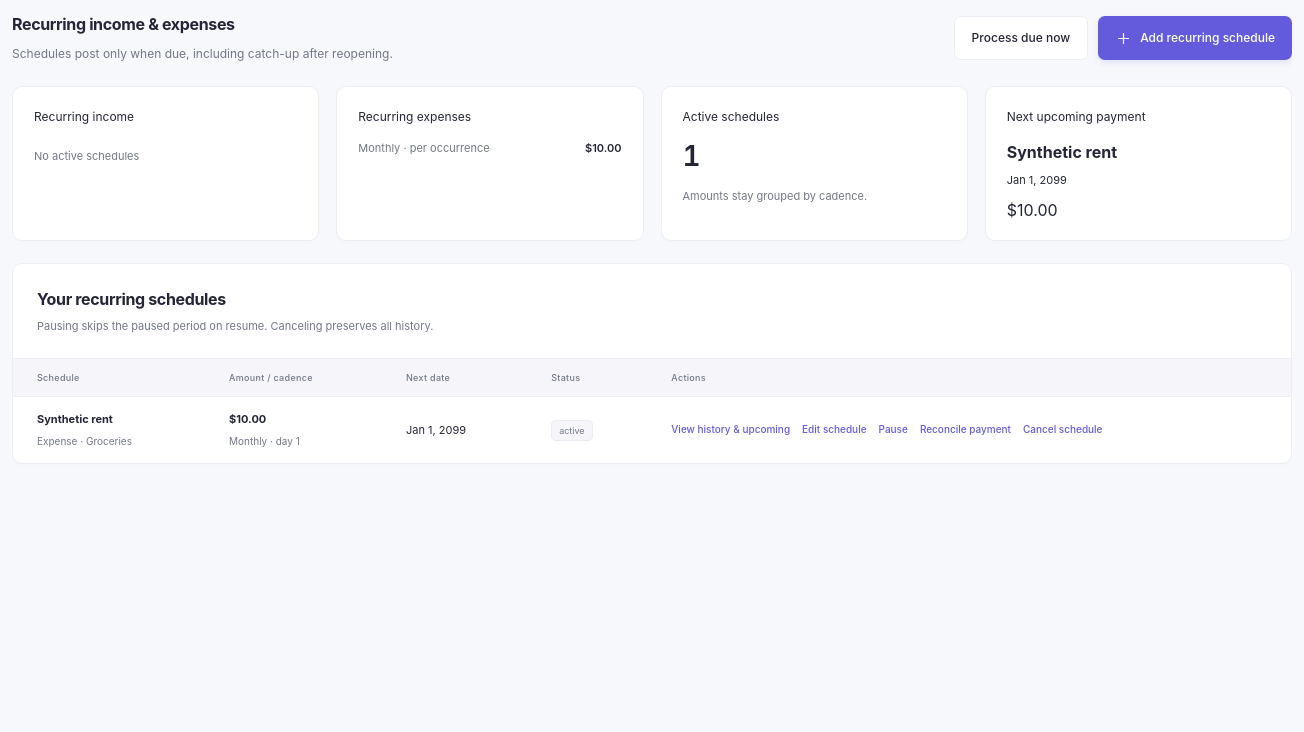
it: recurring workspace actions › pause uses the state endpoint and updates the action to resume
The image size is (1304, 732).
Click the button "Pause". click: (893, 430)
box: left=878, top=422, right=908, bottom=437
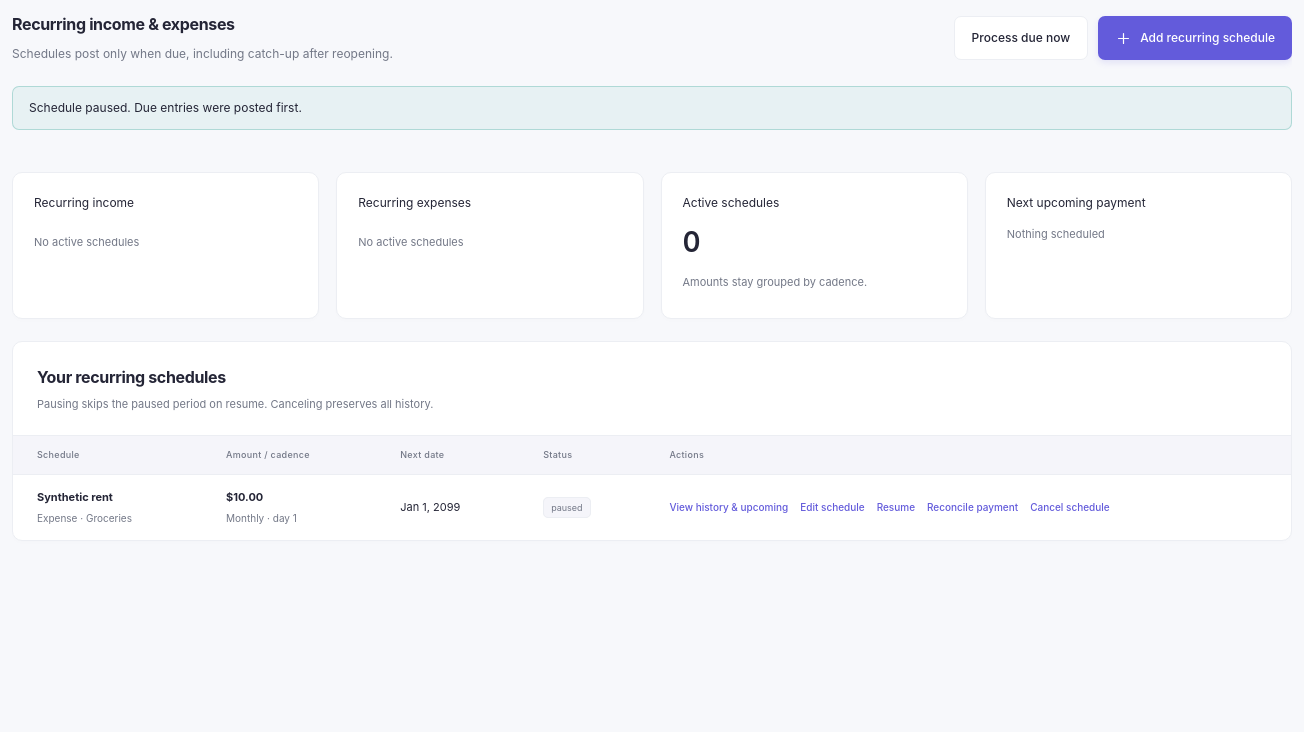
Expected: the button "Resume" is shown, left=877, top=500, right=915, bottom=515
